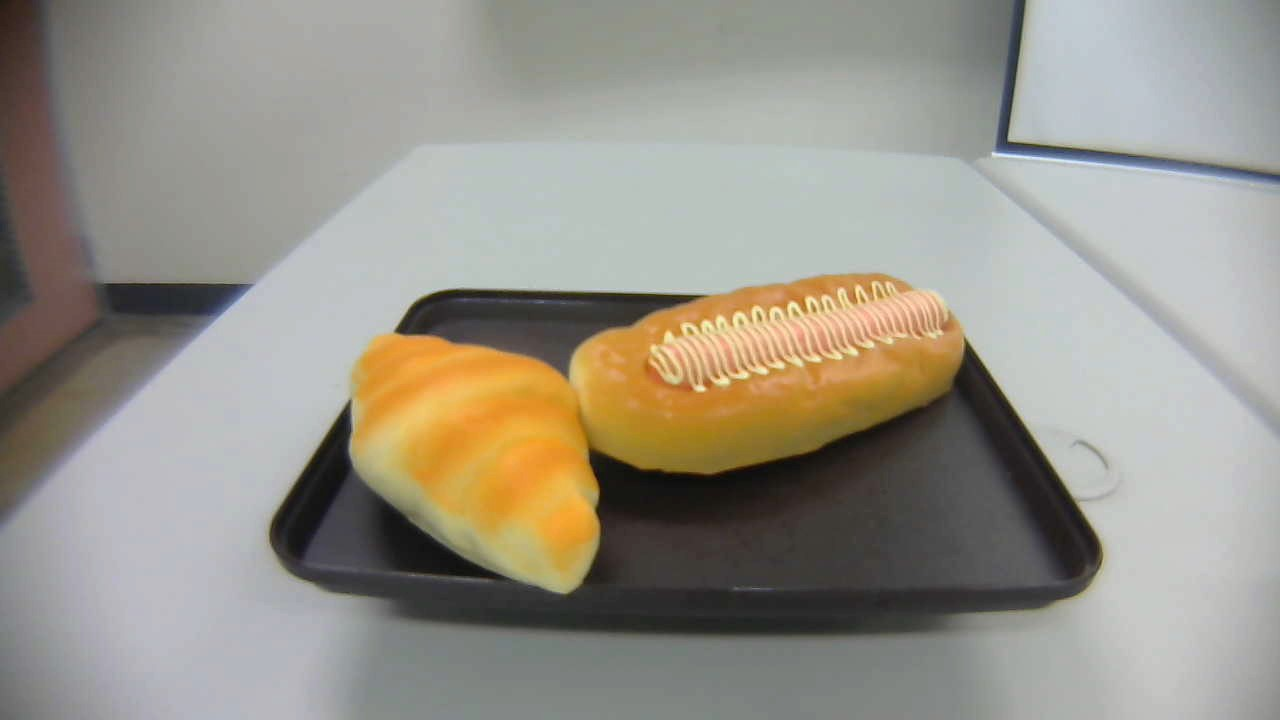croissant: (350, 332, 601, 597)
hot dog: (569, 276, 968, 475)
